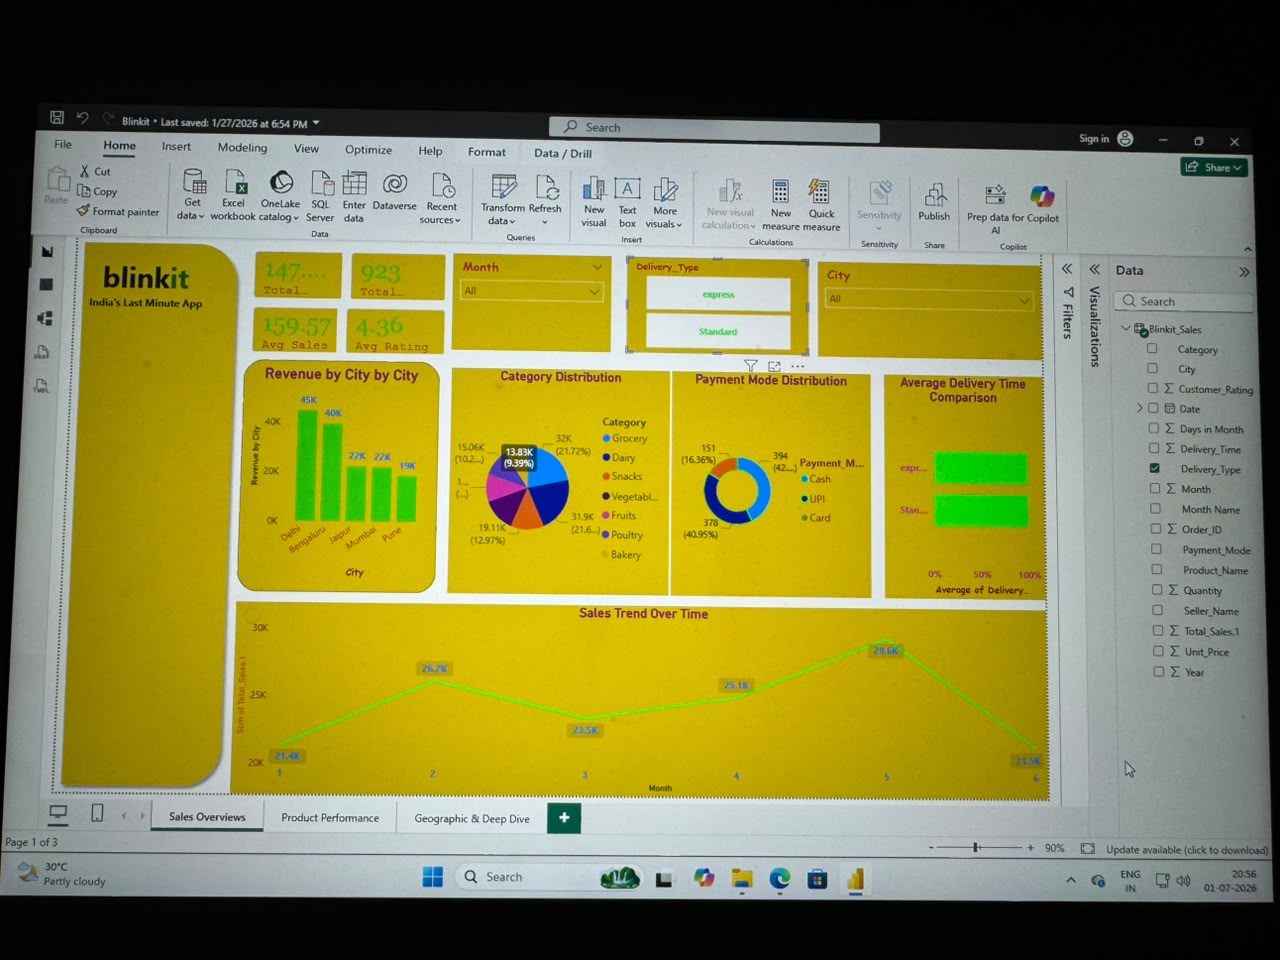

This screenshot's page, from the dashboard's own definition file:
{"tool":"powerbi","page":{"name":"Sales Overviews","canvas":[1280,720],"ordinal":0},"visuals":[{"type":"shape","box":[0,0,219.1,720.5],"z":0},{"type":"textbox","box":[16.1,24.8,151,61.9],"z":1000},{"type":"textbox","box":[13.6,74.3,307,47],"z":2000},{"type":"cardVisual","fields":{"Data":["Sum(Blinkit_Sales.Total_Sales.1)"]},"box":[215.4,0,153.5,97.8],"z":3000},{"type":"cardVisual","fields":{"Data":["Avg(Blinkit_Sales.Total_Sales.1)"]},"box":[215.4,74.3,153.5,94.1],"z":4000},{"type":"cardVisual","fields":{"Data":["CountNonNull(Blinkit_Sales.Product_Name)"]},"box":[342.9,0,159.7,97.8],"z":5000},{"type":"cardVisual","fields":{"Data":["Avg(Blinkit_Sales.Customer_Rating)"]},"box":[337.9,74.3,164.6,94.1],"z":6000},{"type":"shape","box":[224.1,160.9,256.2,302.1],"z":7000},{"type":"slicer","fields":{"Values":["Blinkit_Sales.City"]},"box":[979.2,17.3,300.8,127.5],"z":8000},{"type":"slicer","fields":{"Values":["Blinkit_Sales.Month"]},"box":[493.9,16.1,210.4,128.7],"z":9000},{"type":"slicer","fields":{"Values":["Blinkit_Sales.Delivery_Type"]},"box":[724.2,16.1,242.6,128.7],"z":10000},{"type":"columnChart","fields":{"Y":["Sum(Blinkit_Sales.Total_Sales.1)"],"Category":["Blinkit_Sales.City"]},"box":[231.5,168.4,240.2,282.2],"z":11000},{"type":"pieChart","title":"Category Distribution","fields":{"Y":["Sum(Blinkit_Sales.Total_Sales.1)"],"Category":["Blinkit_Sales.Category"]},"box":[495.2,168.4,288.4,294.6],"z":12000},{"type":"lineChart","title":"Sales Trend Over Time","fields":{"Category":["Blinkit_Sales.Month","Blinkit_Sales.Date.Variation.Date Hierarchy.Year","Blinkit_Sales.Date.Variation.Date Hierarchy.Quarter","Blinkit_Sales.Date.Variation.Date Hierarchy.Month","Blinkit_Sales.Date.Variation.Date Hierarchy.Day"],"Y":["Sum(Blinkit_Sales.Total_Sales.1)"]},"box":[223.8,475.9,1055.7,244.1],"z":13000},{"type":"donutChart","title":" Payment Mode Distribution","fields":{"Y":["CountNonNull(Blinkit_Sales.Order_ID)"],"Category":["Blinkit_Sales.Payment_Mode"]},"box":[786.1,168.4,263.7,294.6],"z":13001},{"type":"hundredPercentStackedBarChart","title":"Average Delivery Time Comparison","fields":{"Y":["Avg(Blinkit_Sales.Delivery_Time)"],"Category":["Blinkit_Sales.Delivery_Type"]},"box":[1067.1,168.4,212.9,294.6],"z":13002}]}

Visuals, with their boxes on the page's 1280x720 design canvas (x1, y1, x2, y2). These are canvas units, not pixel positions in the 1280x960 screenshot, which may show the page scaled, cropped or inside an application window:
shape: l=0, t=0, r=219, b=720
textbox: l=16, t=25, r=167, b=87
textbox: l=14, t=74, r=321, b=121
cardVisual - Sum(Blinkit_Sales.Total_Sales.1): l=215, t=0, r=369, b=98
cardVisual - Avg(Blinkit_Sales.Total_Sales.1): l=215, t=74, r=369, b=168
cardVisual - CountNonNull(Blinkit_Sales.Product_Name): l=343, t=0, r=503, b=98
cardVisual - Avg(Blinkit_Sales.Customer_Rating): l=338, t=74, r=502, b=168
shape: l=224, t=161, r=480, b=463
slicer - Blinkit_Sales.City: l=979, t=17, r=1280, b=145
slicer - Blinkit_Sales.Month: l=494, t=16, r=704, b=145
slicer - Blinkit_Sales.Delivery_Type: l=724, t=16, r=967, b=145
columnChart - Sum(Blinkit_Sales.Total_Sales.1) x Blinkit_Sales.City: l=232, t=168, r=472, b=451
"Category Distribution" pieChart: l=495, t=168, r=784, b=463
"Sales Trend Over Time" lineChart: l=224, t=476, r=1280, b=720
" Payment Mode Distribution" donutChart: l=786, t=168, r=1050, b=463
"Average Delivery Time Comparison" hundredPercentStackedBarChart: l=1067, t=168, r=1280, b=463
